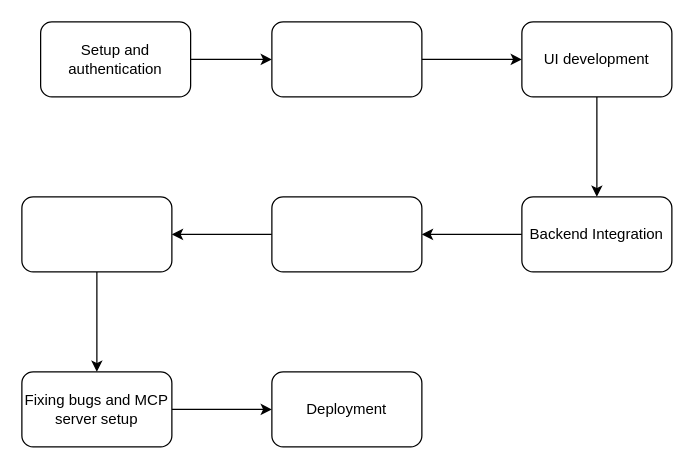
Some shapes in this 694 by 469 pixel diagram are drawn without their labels. Here are the shapes that lost their labels. From the top down, the box of each, then its label:
(271, 21, 422, 97): Database Design
(21, 196, 172, 272): ML Integration
(271, 196, 422, 272): ML model training
